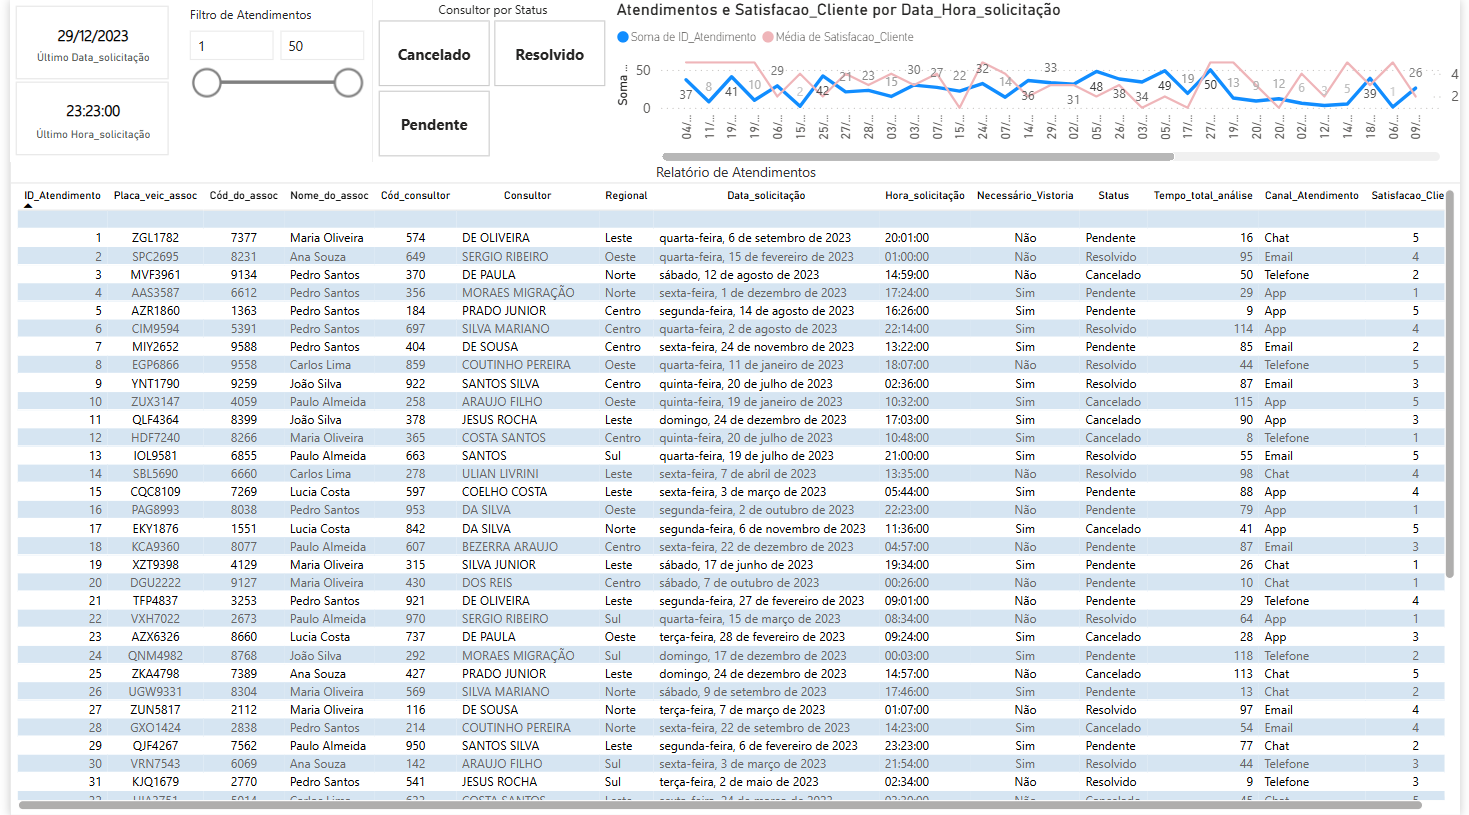

This screenshot's page, from the dashboard's own definition file:
{"tool":"powerbi","page":{"name":"Dashboard 4","canvas":[1280,720],"ordinal":4},"visuals":[{"type":"slicer","fields":{"Values":["atendimentos_clientes_Universo_AVG.ID_Atendimento"]},"box":[145.8,0,174.4,143.1],"z":0},{"type":"tableEx","title":"Relatório de Atendimentos","fields":{"Values":["atendimentos_clientes_Universo_AVG.ID_Atendimento","atendimentos_clientes_Universo_AVG.Placa_veic_assoc","atendimentos_clientes_Universo_AVG.Cód_do_assoc","atendimentos_clientes_Universo_AVG.Nome_do_assoc","atendimentos_clientes_Universo_AVG.Cód_consultor","atendimentos_clientes_Universo_AVG.Consultor","atendimentos_clientes_Universo_AVG.Regional","atendimentos_clientes_Universo_AVG.Data_solicitação","atendimentos_clientes_Universo_AVG.Hora_solicitação","atendimentos_clientes_Universo_AVG.Necessário_Vistoria","atendimentos_clientes_Universo_AVG.Status","atendimentos_clientes_Universo_AVG.Tempo_total_análise"]},"box":[0.9,143.1,1279.1,576],"z":1000},{"type":"advancedSlicerVisual","title":"Consultor por Status","fields":{"Values":["atendimentos_clientes_Universo_AVG.Status"]},"box":[320.1,0,211.7,143.1],"z":2000},{"type":"cardVisual","title":"Inadimplência","fields":{"Data":["Max(atendimentos_clientes_Universo_AVG.Data_solicitação)","Max(atendimentos_clientes_Universo_AVG.Hora_solicitação)"]},"box":[0,0,145.8,143.1],"z":3000},{"type":"lineChart","title":"Atendimentos e Satisfacao_Cliente por Data_Hora_solicitação","fields":{"Category":["Sheet1.Data_solicitação","atendimentos_clientes_Universo_AVG.Hora_solicitação"],"Y":["Sum(atendimentos_clientes_Universo_AVG.ID_Atendimento)"],"Y2":["Avg(atendimentos_clientes_Universo_AVG.Satisfacao_Cliente)"]},"box":[531.8,0,748.6,143.1],"z":4000}]}

Visuals, with their boxes in screenshot pixels (x1, y1, x2, y2), scaled from the page's 1280x720 canvas onto the 1469x815 screenshot:
slicer - atendimentos_clientes_Universo_AVG.ID_Atendimento: BBox(167, 0, 367, 162)
"Relatório de Atendimentos" tableEx: BBox(1, 162, 1468, 814)
"Consultor por Status" advancedSlicerVisual: BBox(367, 0, 610, 162)
"Inadimplência" cardVisual: BBox(0, 0, 167, 162)
"Atendimentos e Satisfacao_Cliente por Data_Hora_solicitação" lineChart: BBox(610, 0, 1468, 162)
